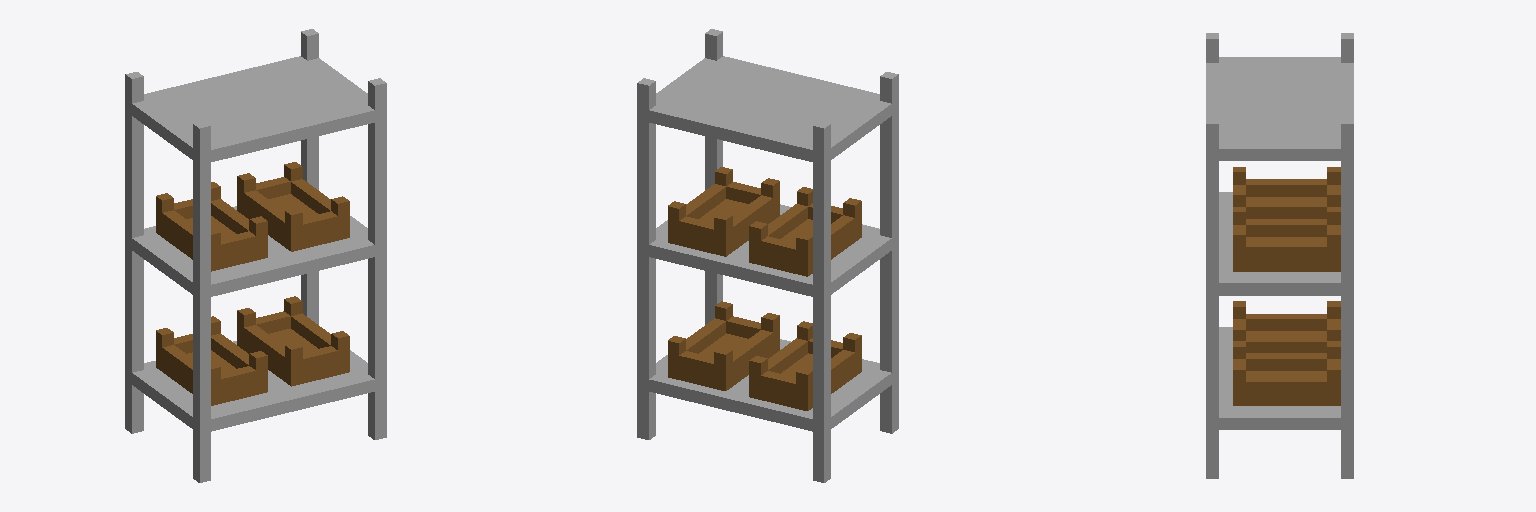
3 renders of one model, left to right at view 1: azimuth 30°, elevation 25°; view 2: azimuth 150°, elevation 25°; view 3: azimuth 270°, elevation 25°, orthographic.
Visible parts, largest first — view 1: object 1; view 2: object 1; view 3: object 1.
Part boxes in pixels (bbox=[...]): object 1: bbox=[125, 29, 386, 482]; object 1: bbox=[637, 29, 898, 482]; object 1: bbox=[1206, 33, 1353, 478].
Size of the model in its own units: 1.6 by 2.9 by 1.1.
1 materials, 1 textured.